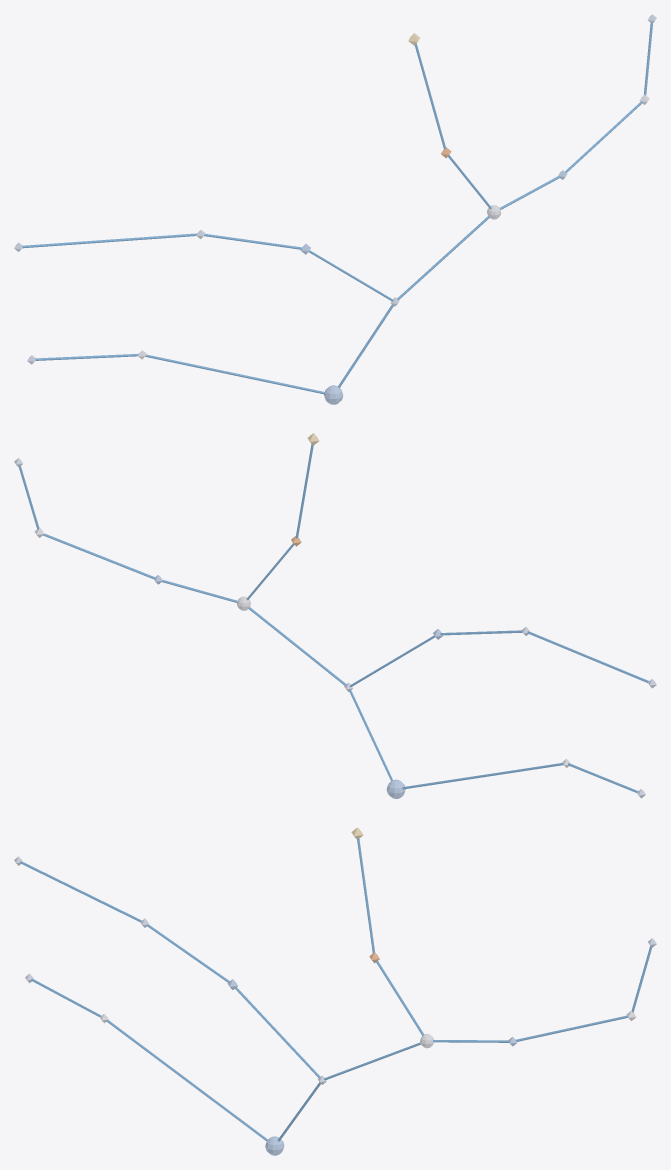
Rendered from constellation-vir.glb.
The picture shows the model from 3 angles, top to bottom: view 1: azimuth 30°, elevation 25°; view 2: azimuth 150°, elevation 25°; view 3: azimuth 330°, elevation 25°; orthographic projection.
Size of the model in its own units: 4.65 by 2.41 by 0.5565.
